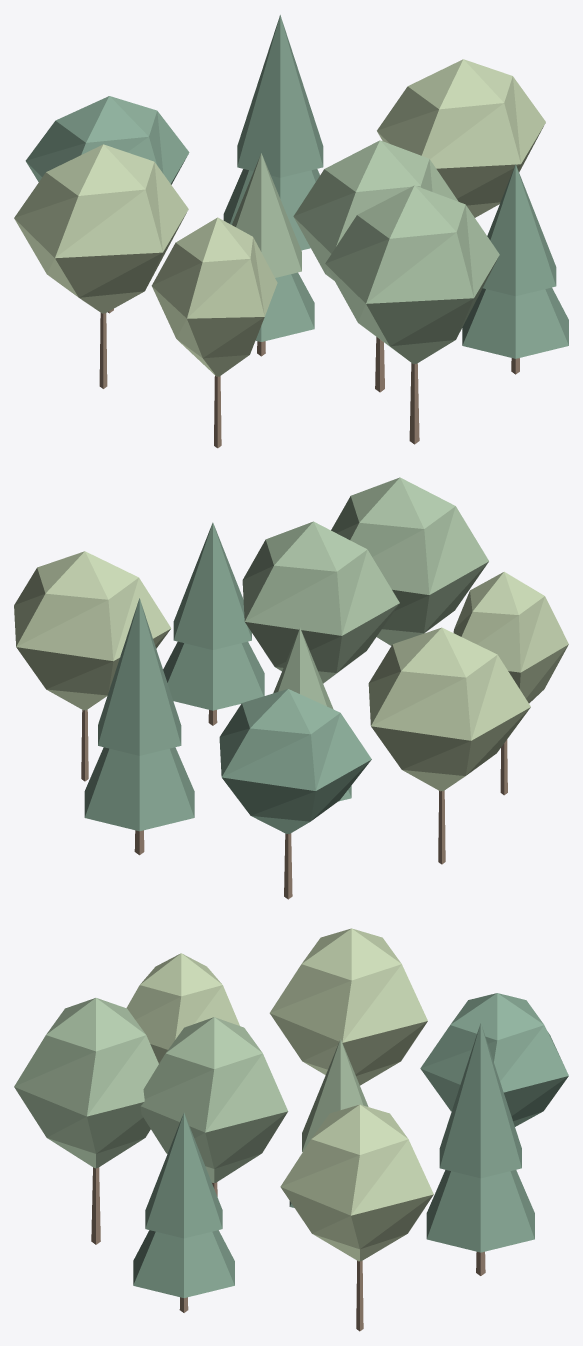
File: forest-grove-birch-spruce.glb
The picture shows the model from 3 angles, top to bottom: view 1: azimuth 30°, elevation 25°; view 2: azimuth 150°, elevation 25°; view 3: azimuth 270°, elevation 25°; orthographic projection. The views are drawn at different scales.
Visible parts, largest first — view 1: forest-grove-birch-spruce; view 2: forest-grove-birch-spruce; view 3: forest-grove-birch-spruce.
Boxes of the visible parts, x1,y1,x2,y2 form: forest-grove-birch-spruce: (14, 15, 568, 448); forest-grove-birch-spruce: (14, 477, 568, 899); forest-grove-birch-spruce: (14, 928, 568, 1331).
Size of the model in its own units: 22.6 by 11.11 by 22.22.
